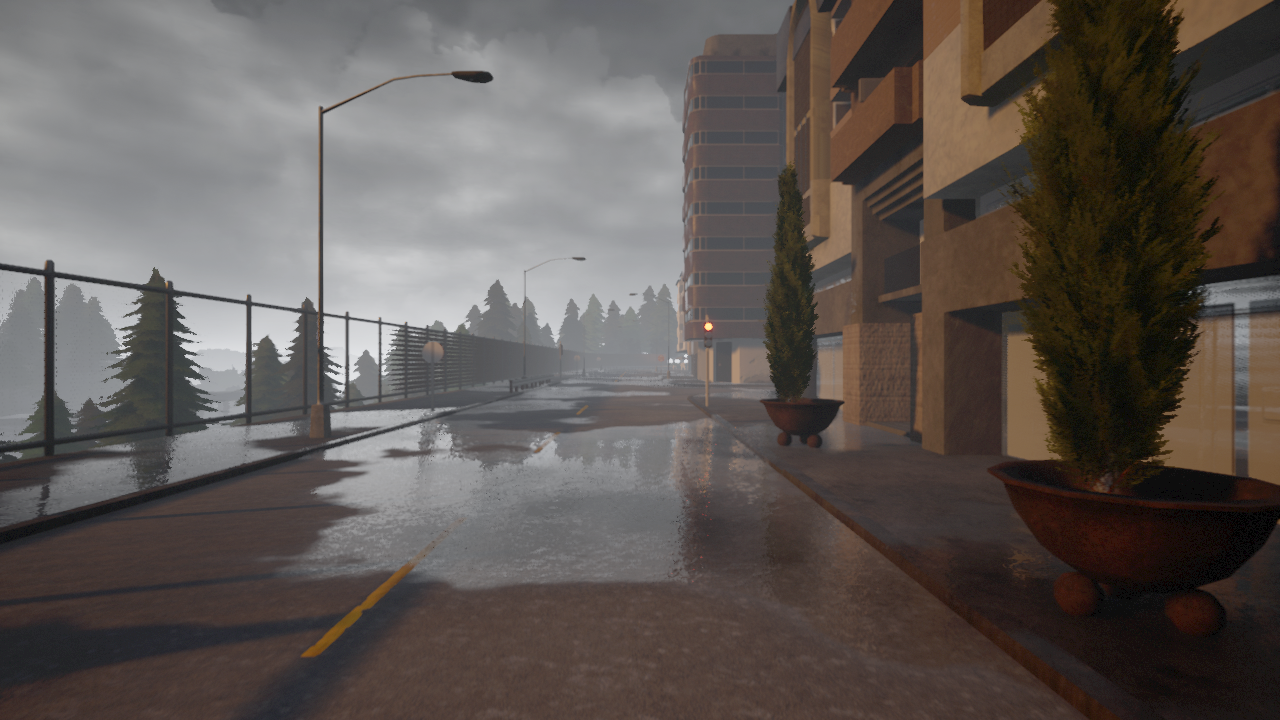red: (703, 321, 714, 351)
